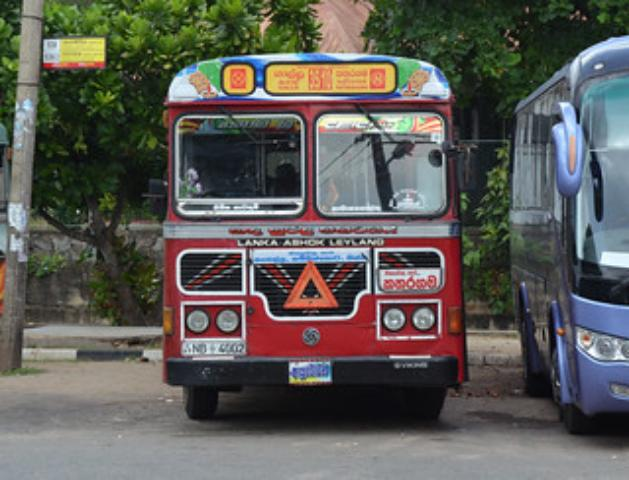bus: (161, 51, 470, 421), (513, 33, 629, 434)
